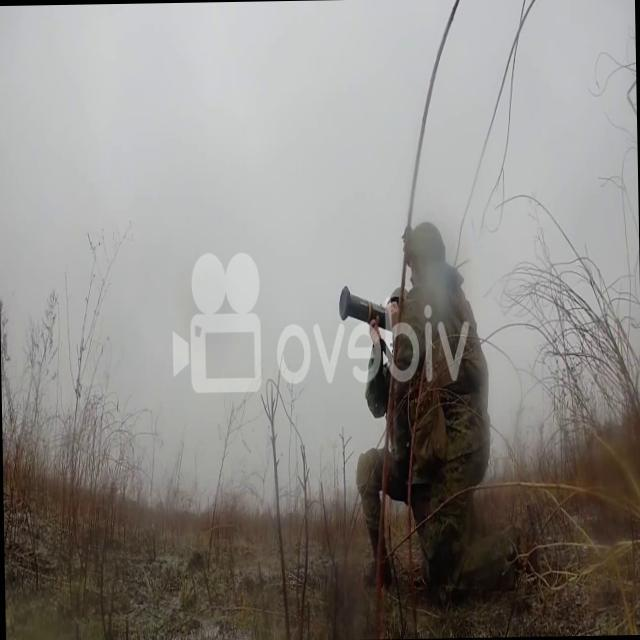rocket: (338, 286, 391, 345)
